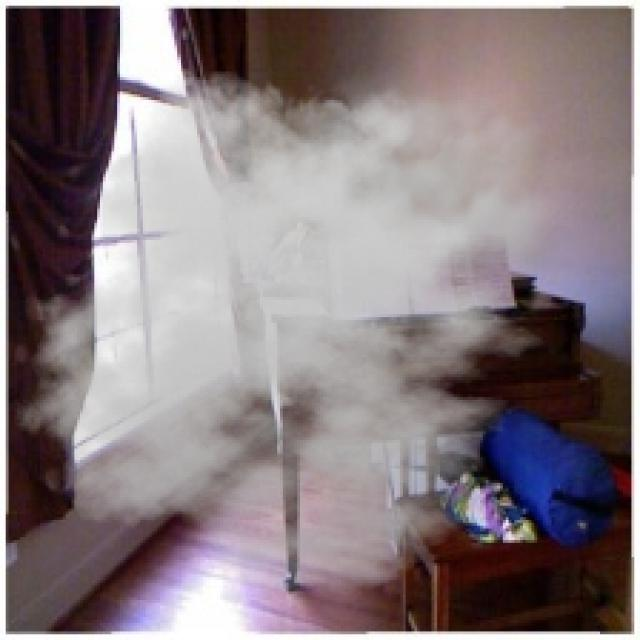smoke: (14, 54, 580, 597)
